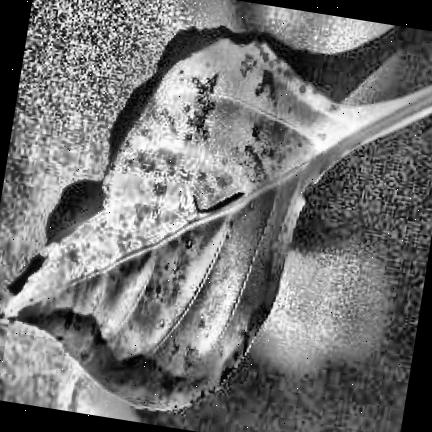leaf: (4, 38, 432, 409)
